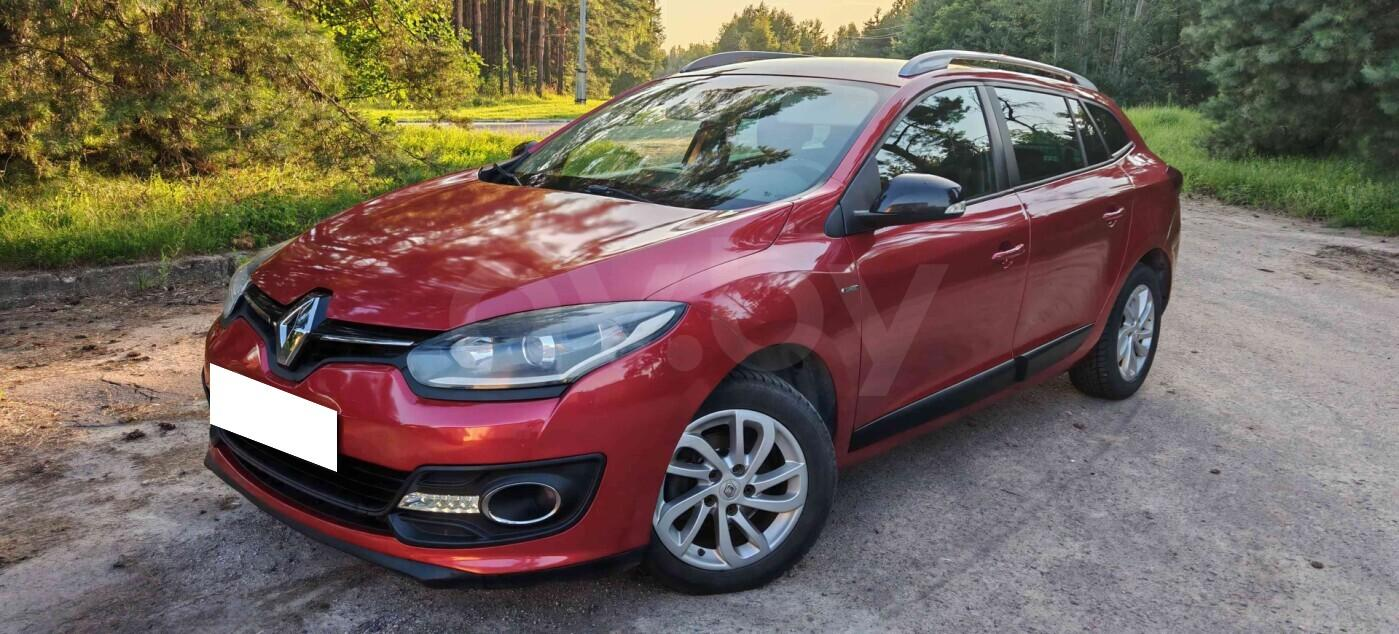Megane_2012-2014: (189, 48, 1184, 593)
